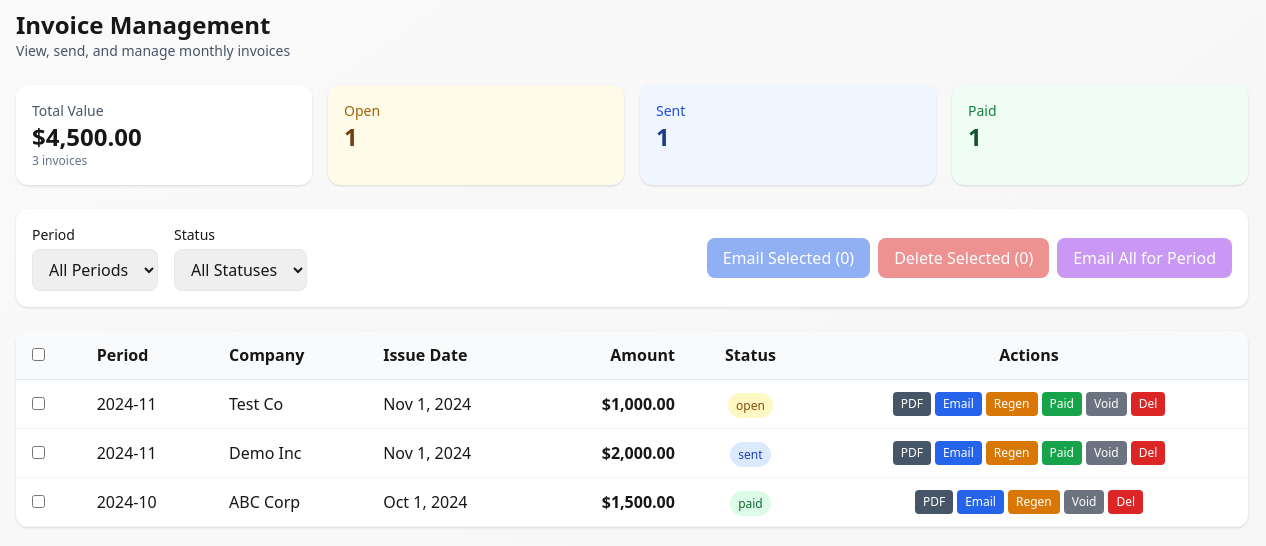
Test: InvoiceManager Component › Invoice Selection › should update selection count in button text
Expected: the button "Email Selected (0)" is shown, [707,238,870,278]
Click the checkbox in the row of "Test Co" at [38, 404], box [32,397,45,410]
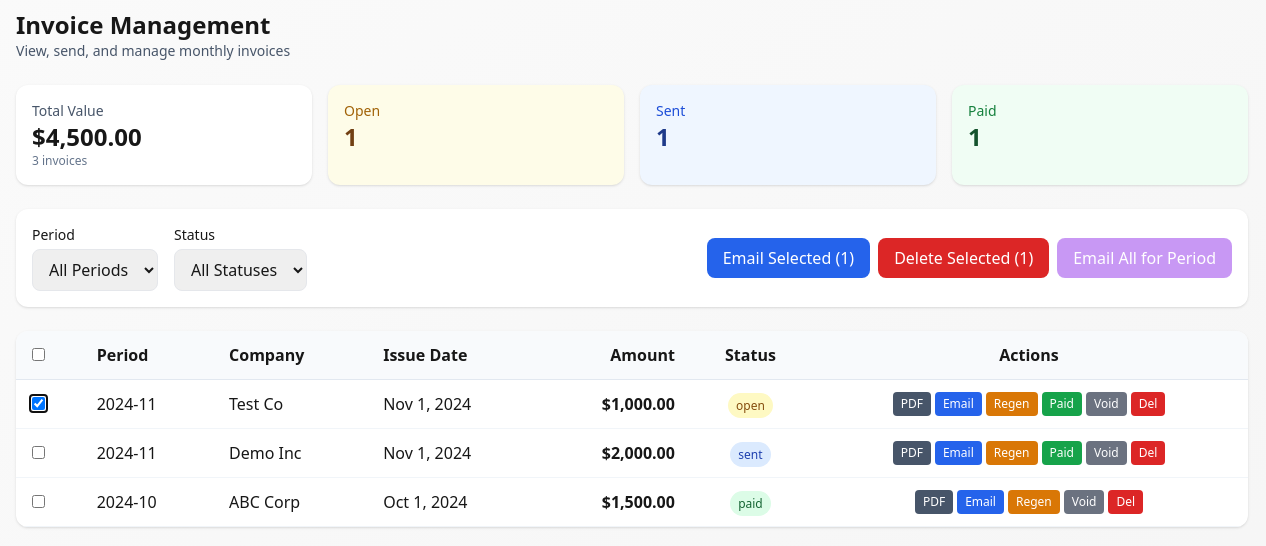
Expected: the button "Email Selected (1)" is shown, [707,238,870,278]
